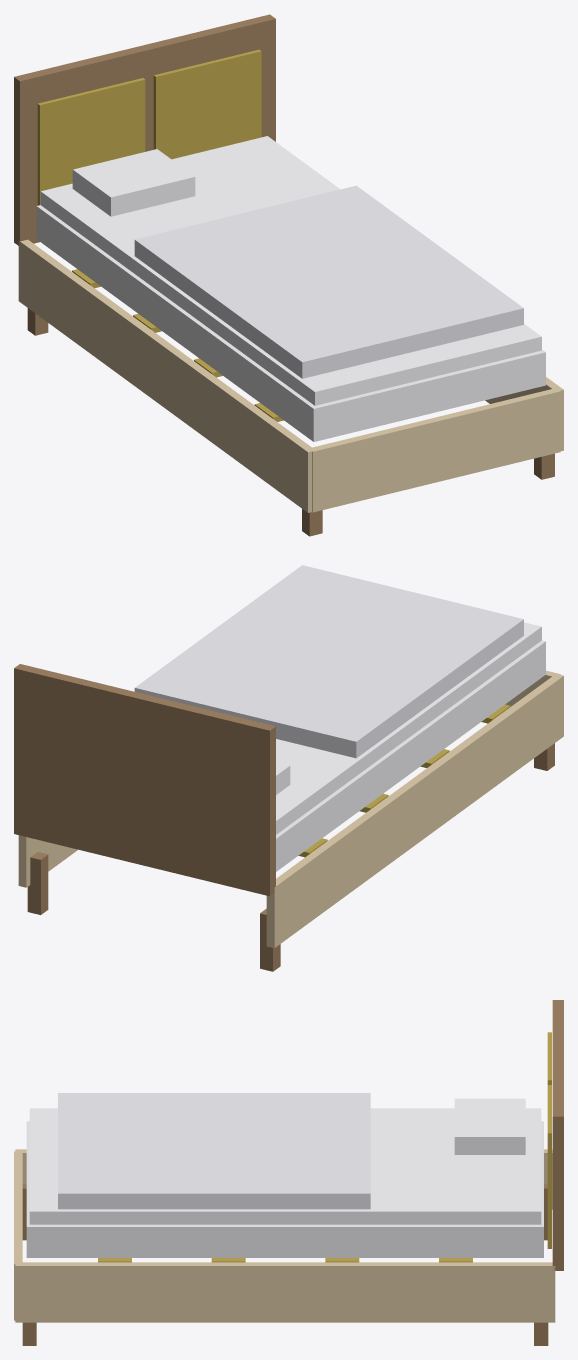
File: bed_single.glb
3 renders of one model, top to bottom at view 1: azimuth 30°, elevation 25°; view 2: azimuth 150°, elevation 25°; view 3: azimuth 270°, elevation 25°, orthographic. The views are drawn at different scales.
Visible parts, largest first — view 1: blanket, mattress_top, side_rails, mattress_base, footboard, headboard_frame, headboard_panel_r, headboard_panel_l, pillow, legs, slats; view 2: headboard_frame, blanket, side_rails, mattress_base, mattress_top, legs, slats; view 3: blanket, side_rails, mattress_top, mattress_base, pillow, headboard_frame, legs, footboard, headboard_panel_r, slats.
Part boxes in pixels (box(x1,y1,x2,y2)): blanket: box(134, 185, 523, 378); mattress_top: box(40, 136, 541, 405); side_rails: box(18, 239, 563, 512); mattress_base: box(36, 205, 545, 441); footboard: box(312, 389, 560, 512); headboard_frame: box(14, 14, 275, 245); headboard_panel_r: box(153, 49, 261, 159); headboard_panel_l: box(37, 78, 145, 205); pillow: box(72, 149, 195, 216); legs: box(27, 308, 554, 536); slats: box(72, 269, 283, 421); headboard_frame: box(14, 664, 275, 896); blanket: box(134, 565, 523, 758); side_rails: box(18, 674, 563, 948); mattress_base: box(276, 640, 545, 871); mattress_top: box(276, 622, 541, 834); legs: box(27, 743, 554, 971); slats: box(298, 704, 510, 857); blanket: box(58, 1093, 370, 1209); side_rails: box(15, 1149, 555, 1322); mattress_top: box(29, 1108, 541, 1224); mattress_base: box(26, 1121, 543, 1257); pillow: box(454, 1098, 525, 1154); headboard_frame: box(552, 1000, 563, 1270); legs: box(22, 1184, 548, 1345); footboard: box(14, 1151, 22, 1320); headboard_panel_r: box(547, 1085, 551, 1248); slats: box(98, 1258, 472, 1262).
Size of the model in its own units: 0.97 by 0.9 by 1.94.
